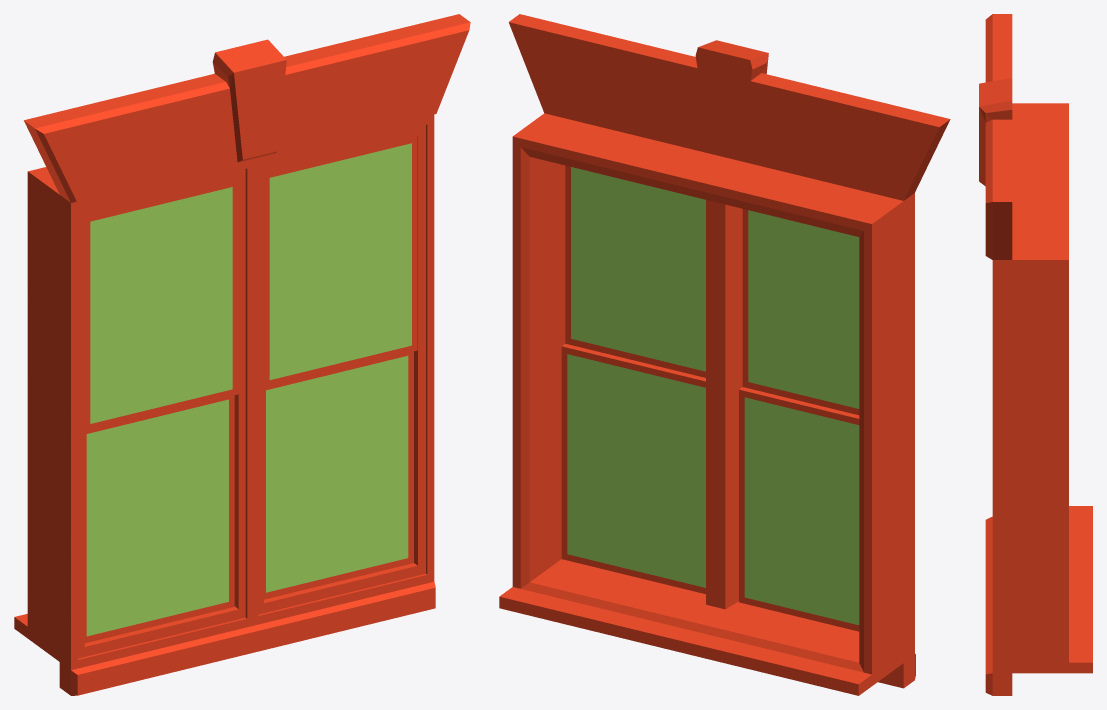
Rendered from SM_Window_D_City.fbx.
The picture shows the model from 3 angles, left to right: view 1: azimuth 30°, elevation 25°; view 2: azimuth 150°, elevation 25°; view 3: azimuth 270°, elevation 25°; orthographic projection. The views are drawn at different scales.
Parts seen in each view (by area): view 1: SM_Window_D_City_Frame, SM_Window_D_City_Glass_LT, SM_Window_D_City_Glass_RT, SM_Window_D_City_Glass_LB, SM_Window_D_City_Glass_RB; view 2: SM_Window_D_City_Frame, SM_Window_D_City_Glass_RB, SM_Window_D_City_Glass_LB, SM_Window_D_City_Glass_RT, SM_Window_D_City_Glass_LT; view 3: SM_Window_D_City_Frame.
Part boxes in pixels (x1,y1,x2,y2): SM_Window_D_City_Frame: (14,14,470,695); SM_Window_D_City_Glass_LT: (84,179,238,431); SM_Window_D_City_Glass_RT: (264,135,417,387); SM_Window_D_City_Glass_LB: (84,395,234,643); SM_Window_D_City_Glass_RB: (264,351,413,599); SM_Window_D_City_Frame: (499,14,950,695); SM_Window_D_City_Glass_RB: (561,343,705,594); SM_Window_D_City_Glass_LB: (739,387,859,631); SM_Window_D_City_Glass_RT: (565,165,705,377); SM_Window_D_City_Glass_LT: (742,209,859,415); SM_Window_D_City_Frame: (979,14,1092,695).
Size of the model in its own units: 1.42 by 1.86 by 0.3638.
